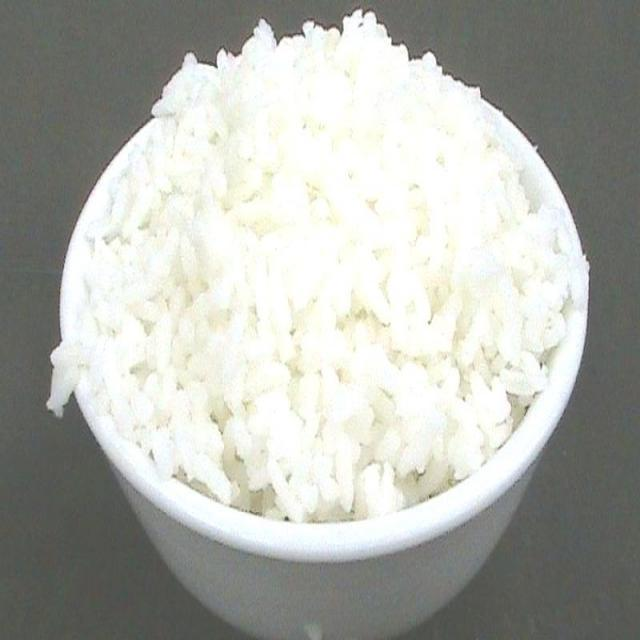rice: (75, 8, 582, 522)
